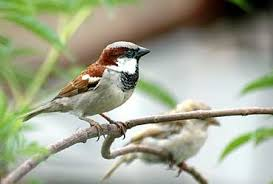hsparrow: (11, 40, 154, 149)
